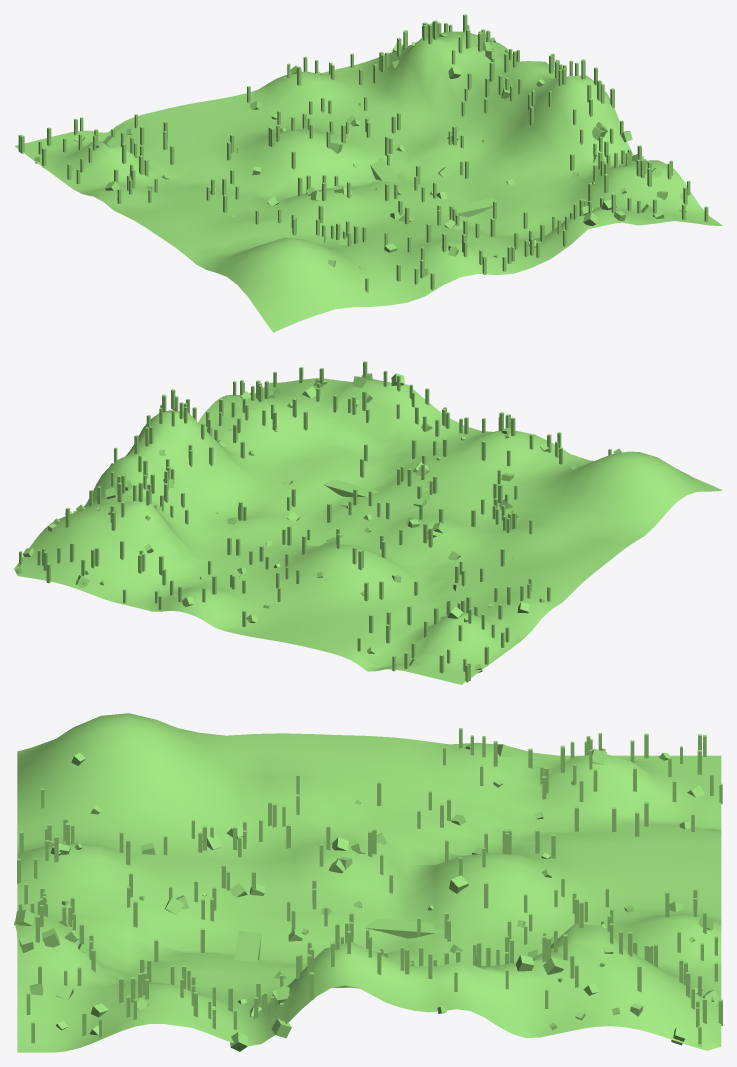
File: MAP_LOWPOLY.gltf
The picture shows the model from 3 angles, top to bottom: view 1: azimuth 30°, elevation 25°; view 2: azimuth 150°, elevation 25°; view 3: azimuth 270°, elevation 25°; orthographic projection. The views are drawn at different scales.
Parts seen in each view (by area): view 1: SOL.001; view 2: SOL.001; view 3: SOL.001.
Boxes of the visible parts, x1,y1,x2,y2 form: SOL.001: (14,14,722,332); SOL.001: (14,361,722,684); SOL.001: (14,713,722,1052).
Size of the model in its own units: 189 by 38.42 by 188.
